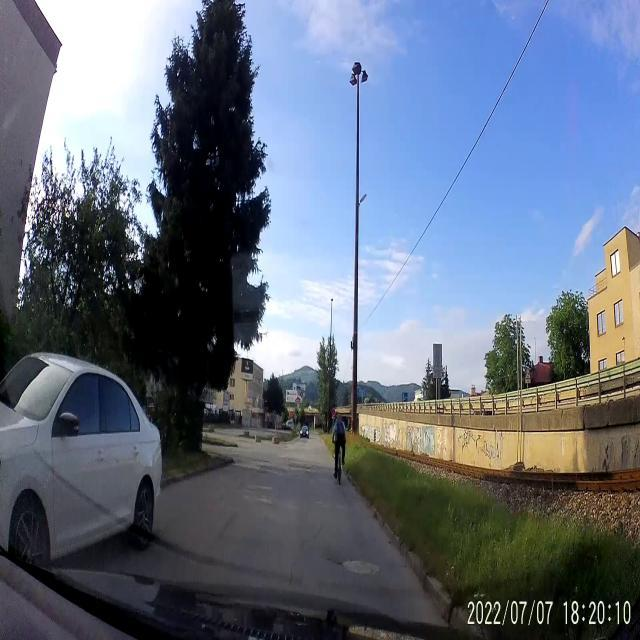Manhole: (342, 553, 380, 583)
